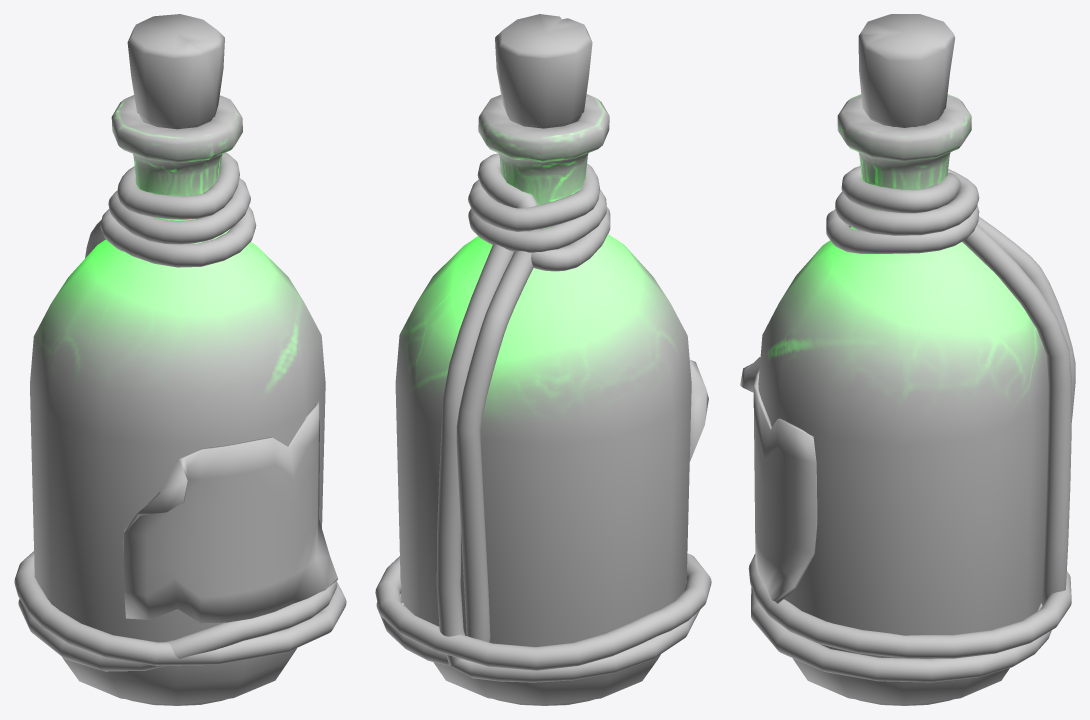
Rendered from PirateBottle_sketchfab.fbx.
The picture shows the model from 3 angles, left to right: view 1: azimuth 30°, elevation 25°; view 2: azimuth 150°, elevation 25°; view 3: azimuth 270°, elevation 25°; orthographic projection.
Visible parts, largest first — view 1: Bottle_low_One_shader_together_edit; view 2: Bottle_low_One_shader_together_edit; view 3: Bottle_low_One_shader_together_edit.
Boxes of the visible parts, x1,y1,x2,y2 form: Bottle_low_One_shader_together_edit: [14, 14, 346, 705]; Bottle_low_One_shader_together_edit: [375, 14, 711, 705]; Bottle_low_One_shader_together_edit: [740, 14, 1075, 705].
Bounding box in the file's own units: 106 × 225 × 108.
